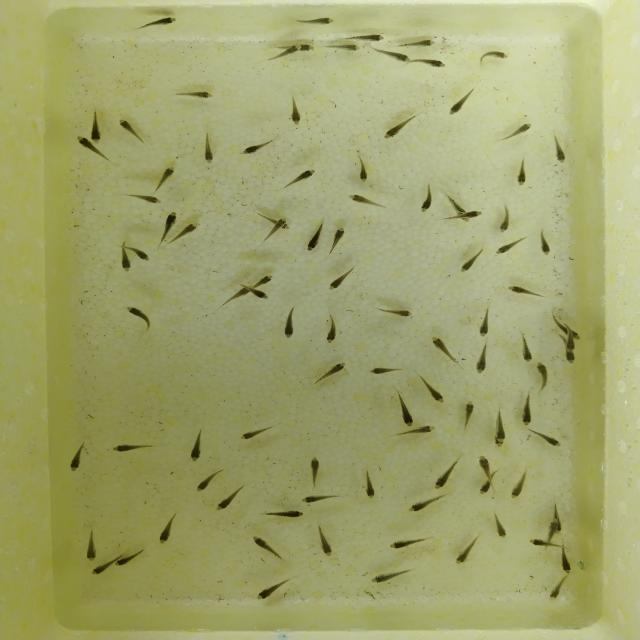fingerling: (326, 262, 361, 293), (214, 484, 249, 514), (348, 188, 388, 212), (432, 456, 459, 491), (252, 578, 293, 601), (458, 242, 487, 274), (545, 132, 574, 164), (383, 114, 418, 140), (312, 361, 347, 386), (218, 285, 254, 309), (250, 536, 284, 561), (494, 233, 528, 257), (302, 221, 326, 255), (497, 121, 534, 143), (444, 90, 473, 118), (124, 305, 154, 332), (192, 469, 224, 493), (325, 225, 349, 257), (122, 190, 164, 208), (418, 180, 439, 215), (370, 567, 413, 584), (420, 376, 446, 404), (156, 512, 178, 545), (532, 361, 554, 394), (238, 423, 276, 442), (406, 496, 446, 514), (66, 444, 90, 474), (454, 534, 477, 565), (279, 306, 300, 339), (316, 525, 337, 558), (530, 430, 566, 449), (286, 167, 317, 189), (433, 336, 458, 363), (136, 15, 180, 30), (117, 118, 143, 143), (507, 162, 532, 188), (488, 514, 513, 540), (474, 48, 510, 66), (399, 395, 418, 429), (153, 164, 176, 192), (508, 469, 528, 501), (85, 557, 115, 578), (460, 399, 479, 432), (187, 431, 206, 464), (474, 340, 491, 376), (506, 284, 544, 300), (173, 88, 216, 102), (444, 189, 466, 216), (389, 536, 430, 550), (262, 508, 306, 521), (83, 532, 102, 562), (544, 582, 571, 603), (238, 139, 271, 156), (496, 200, 512, 235), (110, 443, 156, 455), (396, 37, 442, 49), (288, 95, 304, 129), (306, 456, 323, 487), (296, 15, 336, 28), (362, 468, 378, 500), (324, 314, 342, 342), (558, 547, 576, 575), (346, 31, 388, 43), (89, 108, 103, 144), (477, 308, 493, 339), (354, 157, 372, 184), (177, 220, 200, 241), (201, 133, 216, 165), (269, 44, 301, 59), (537, 227, 553, 257), (520, 392, 534, 426), (382, 304, 416, 318), (475, 452, 496, 474), (115, 251, 134, 275), (254, 270, 277, 289), (476, 474, 494, 498), (299, 494, 342, 504), (519, 334, 534, 362), (369, 365, 407, 376), (412, 57, 450, 68), (458, 207, 484, 223), (321, 43, 362, 53), (161, 210, 179, 232), (381, 52, 411, 64), (495, 412, 506, 444), (545, 519, 559, 543), (75, 133, 91, 152), (414, 424, 438, 436), (135, 248, 153, 263), (255, 289, 272, 302), (116, 557, 134, 569), (527, 538, 546, 549), (565, 333, 575, 353), (300, 38, 314, 52), (274, 216, 289, 226), (563, 355, 578, 364)
